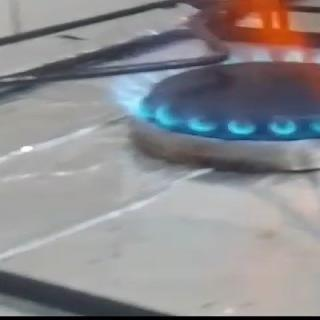fire: (97, 0, 320, 143)
